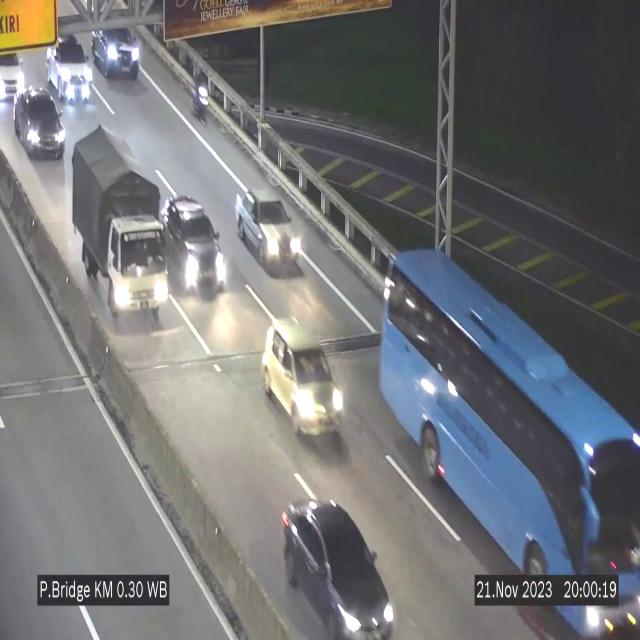Bus: (380, 250, 639, 640)
Car: (278, 498, 394, 640), (264, 314, 346, 437), (163, 191, 231, 303), (235, 188, 303, 274), (12, 87, 68, 159), (44, 34, 95, 106), (92, 27, 140, 79), (0, 39, 30, 111)
Motorcycle: (189, 56, 212, 132)
Truck: (71, 120, 172, 325)
